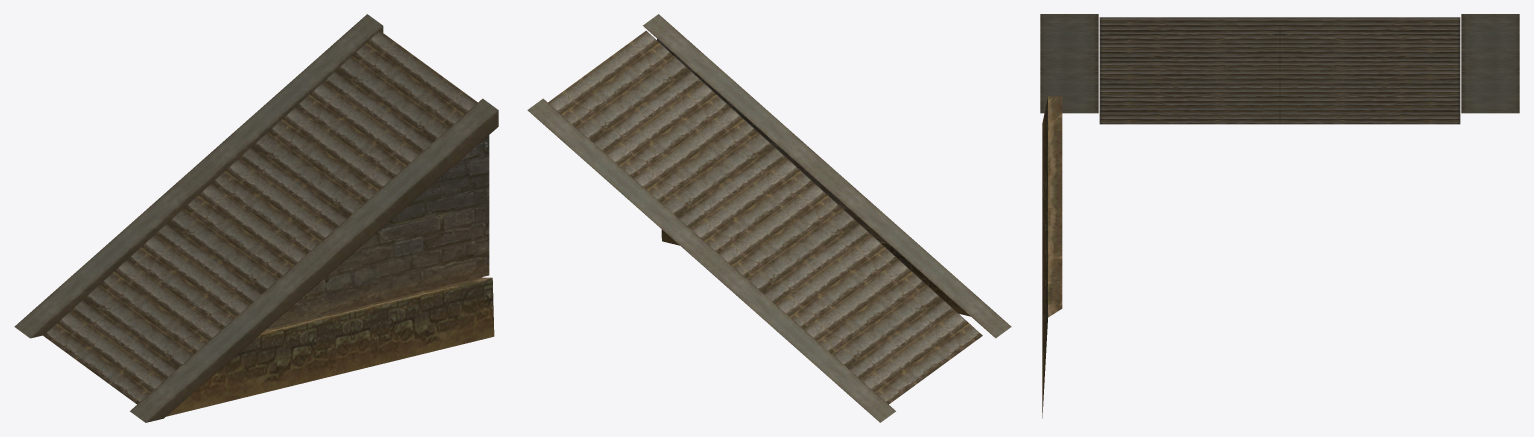
The model's file is yw_yanmenguan_louti.FBX.
3 views of the same model, side by side, from view 1: azimuth 30°, elevation 25°; view 2: azimuth 150°, elevation 25°; view 3: azimuth 270°, elevation 25° (orthographic). The views are drawn at different scales.
Parts seen in each view (by area): view 1: yw_yanmenguan_louti; view 2: yw_yanmenguan_louti; view 3: yw_yanmenguan_louti.
Part boxes in pixels (bbox=[...]): yw_yanmenguan_louti: bbox=[14, 14, 498, 422]; yw_yanmenguan_louti: bbox=[527, 14, 1011, 422]; yw_yanmenguan_louti: bbox=[1040, 14, 1519, 418].
Bounding box in the file's own units: 778 × 478 × 502.
